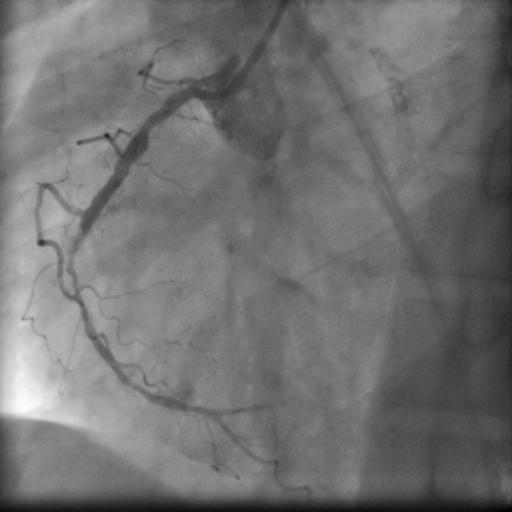Stenosis: (140, 106, 166, 135)
